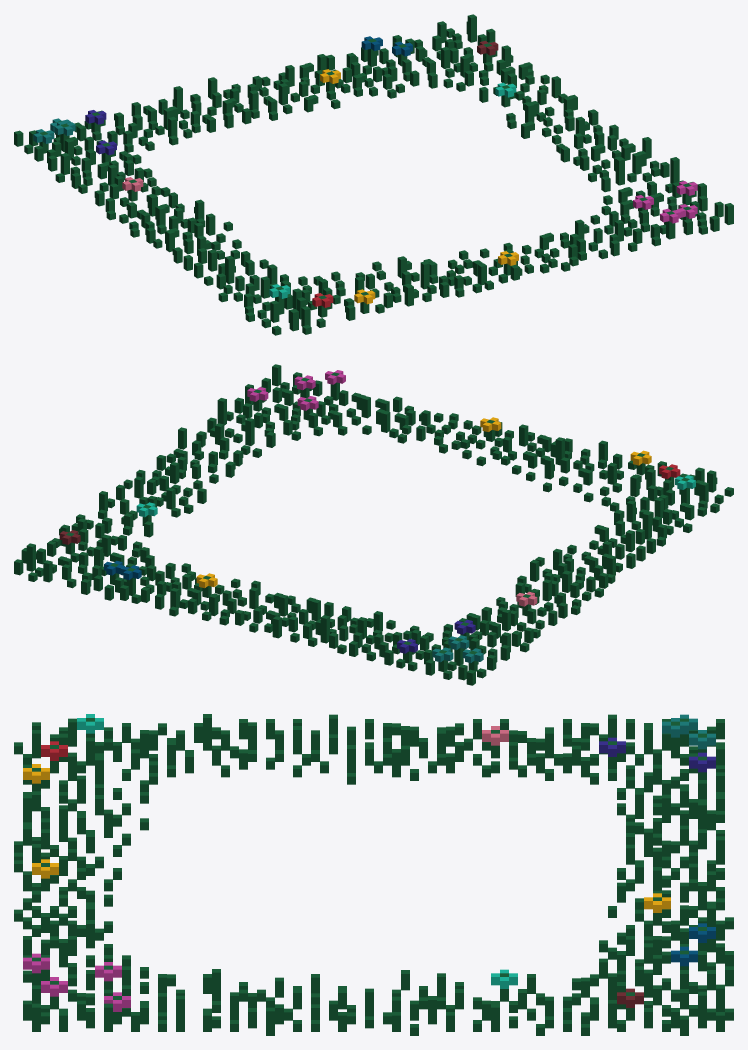
File: grass_1_overtile.obj
3 renders of one model, top to bottom at view 1: azimuth 30°, elevation 25°; view 2: azimuth 150°, elevation 25°; view 3: azimuth 270°, elevation 25°, orthographic. The views are drawn at different scales.
Size of the model in its own units: 8 by 0.4 by 8.
1 material, 1 textured.
